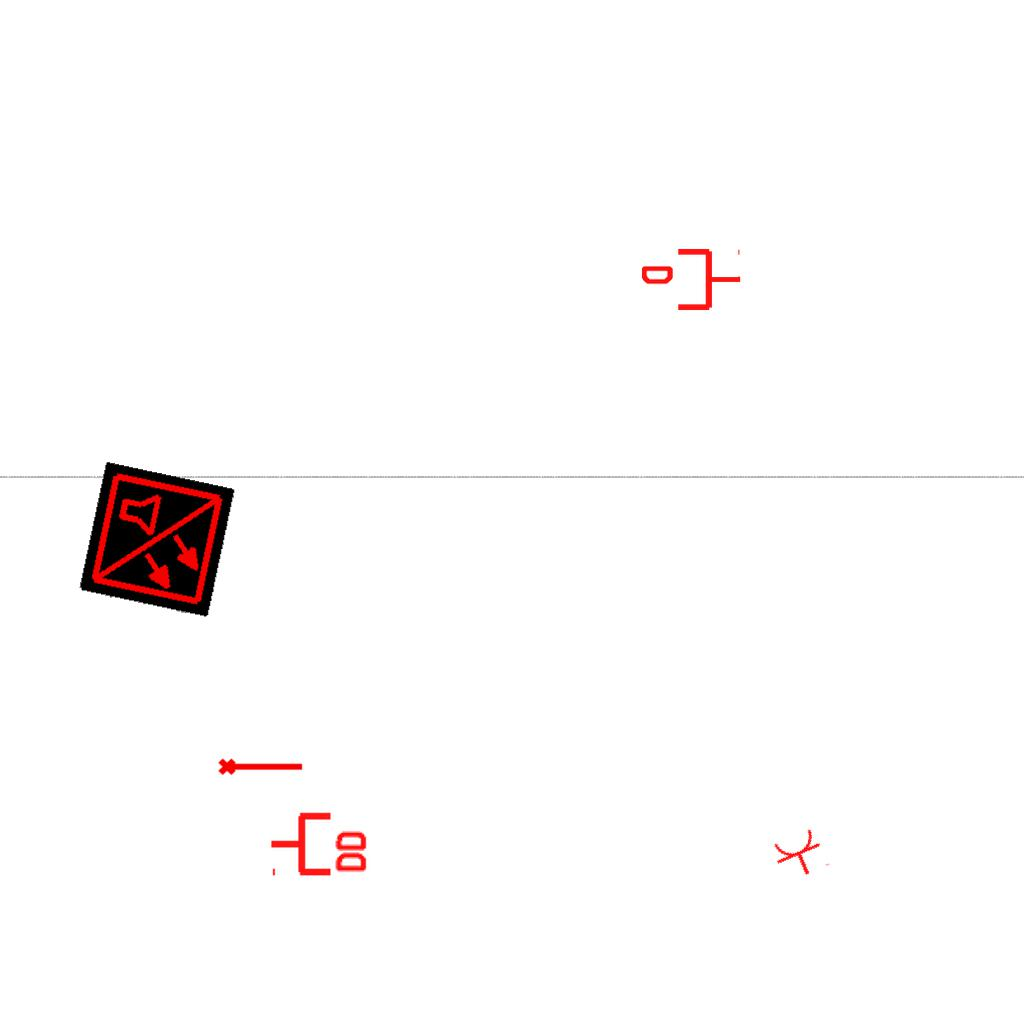ASR_Ansaugoeffnung: (217, 754, 305, 777)
Datenanschluss_einfach: (642, 245, 742, 314)
Datenanschluss_zweifach: (268, 808, 371, 877)
OKW_Multisensormelder_(Kombination_optischer_Rauch-Kahlenmonoxid_Waerme-Melder): (78, 461, 236, 619)
Schukosteckdose_einfach: (769, 825, 832, 885)
